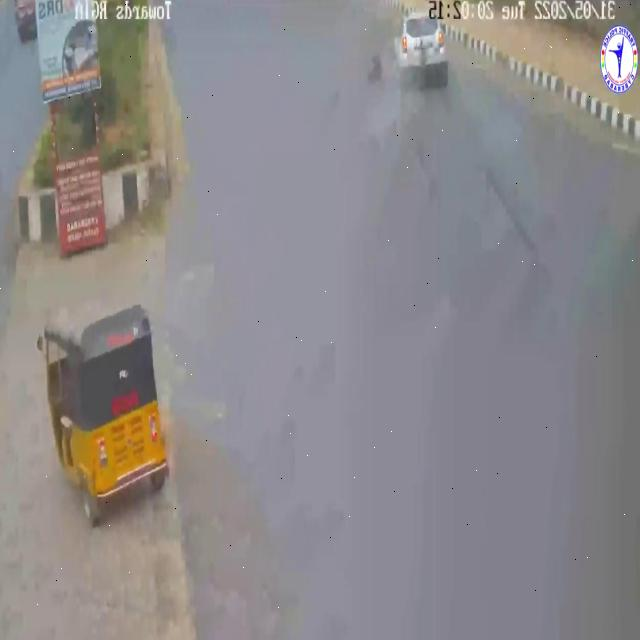accident: (361, 4, 456, 108)
